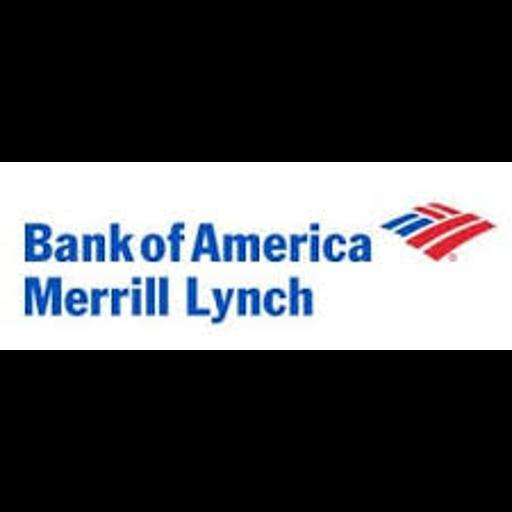Bank of America: (0, 162, 512, 350)
